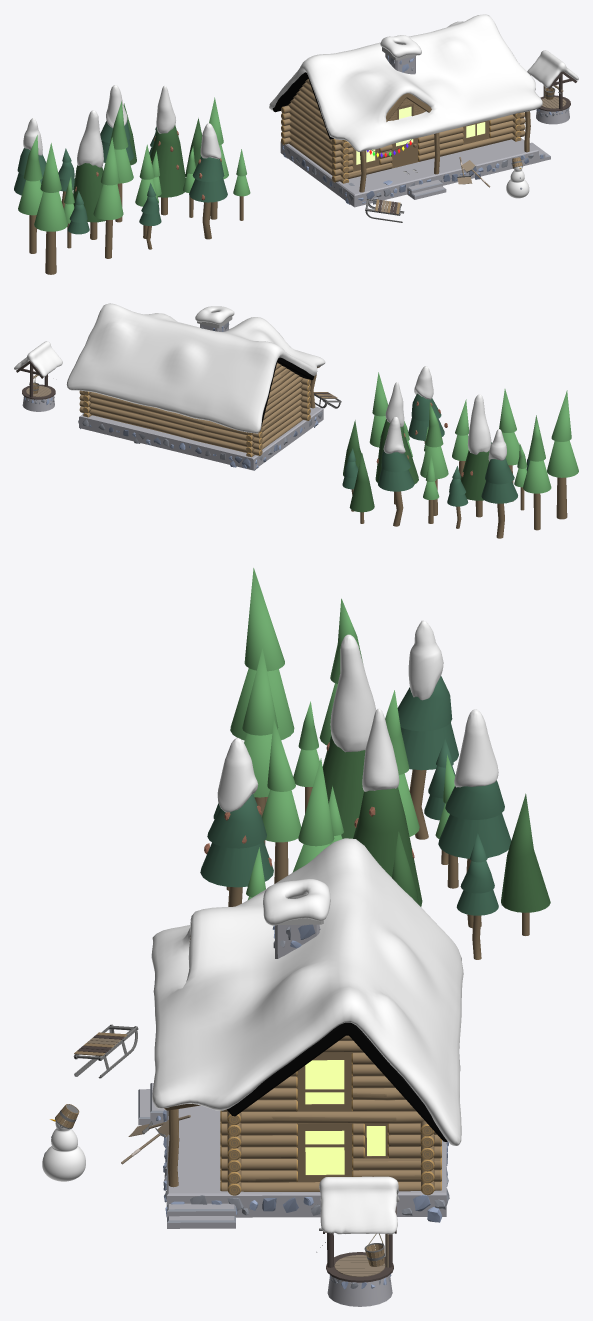
Rendered from cabin-winter.glb.
The picture shows the model from 3 angles, top to bottom: view 1: azimuth 30°, elevation 25°; view 2: azimuth 150°, elevation 25°; view 3: azimuth 270°, elevation 25°; orthographic projection. The views are drawn at different scales.
Parts seen in each view (by area): view 1: Snow1, Walls, pCube64, Trees:pCone13polySurface328, Trees:pCone23polySurface330, polySurface521, polySurface334, polySurface517, polySurface340, polySurface384, polySurface522, polySurface343 (+18 smaller); view 2: Snow1, Walls, pCube64, Trees:pCone23polySurface330, polySurface521, polySurface334, polySurface335, polySurface517, polySurface343, polySurface377, polySurface358, Trees:pCone13polySurface328 (+21 smaller); view 3: Snow1, Walls, pCube64, polySurface517, polySurface521, Trees:pCone13polySurface328, pCube2, polySurface335, Trees:pCone23polySurface330, polySurface377, polySurface520, polySurface384 (+22 smaller).
Part boxes in pixels (x1=…): Snow1: x1=269, y1=14, x2=542, y2=151; Walls: x1=281, y1=79, x2=525, y2=183; pCube64: x1=280, y1=138, x2=538, y2=207; Trees:pCone13polySurface328: x1=150, y1=125, x2=185, y2=197; Trees:pCone23polySurface330: x1=73, y1=163, x2=105, y2=222; polySurface521: x1=77, y1=110, x2=103, y2=167; polySurface334: x1=34, y1=191, x2=67, y2=231; polySurface517: x1=527, y1=50, x2=578, y2=87; polySurface340: x1=93, y1=184, x2=123, y2=219; polySurface384: x1=189, y1=178, x2=227, y2=202; polySurface522: x1=156, y1=85, x2=175, y2=133; polySurface343: x1=18, y1=180, x2=43, y2=215; Snow1: x1=66, y1=303, x2=325, y2=433; Walls: x1=79, y1=362, x2=310, y2=457; pCube64: x1=79, y1=406, x2=323, y2=470; Trees:pCone23polySurface330: x1=460, y1=450, x2=489, y2=500; polySurface521: x1=467, y1=394, x2=491, y2=454; polySurface334: x1=547, y1=440, x2=578, y2=477; polySurface335: x1=349, y1=453, x2=374, y2=512; polySurface517: x1=14, y1=341, x2=62, y2=376; polySurface343: x1=523, y1=460, x2=551, y2=493; polySurface377: x1=378, y1=468, x2=414, y2=491; polySurface358: x1=481, y1=481, x2=517, y2=503; Trees:pCone13polySurface328: x1=375, y1=419, x2=418, y2=483; Snow1: x1=151, y1=838, x2=463, y2=1145; Walls: x1=220, y1=1035, x2=441, y2=1195; pCube64: x1=166, y1=1105, x2=446, y2=1217; polySurface517: x1=319, y1=1176, x2=399, y2=1234; polySurface521: x1=330, y1=634, x2=375, y2=752; Trees:pCone13polySurface328: x1=353, y1=787, x2=422, y2=906; pCube2: x1=227, y1=1022, x2=447, y2=1141; polySurface335: x1=501, y1=793, x2=550, y2=912; Trees:pCone23polySurface330: x1=322, y1=735, x2=365, y2=838; polySurface377: x1=438, y1=813, x2=511, y2=858; polySurface520: x1=454, y1=709, x2=498, y2=787; polySurface384: x1=200, y1=841, x2=273, y2=887.
Bounding box in the file's own units: 42.25 × 10.09 × 17.54.
